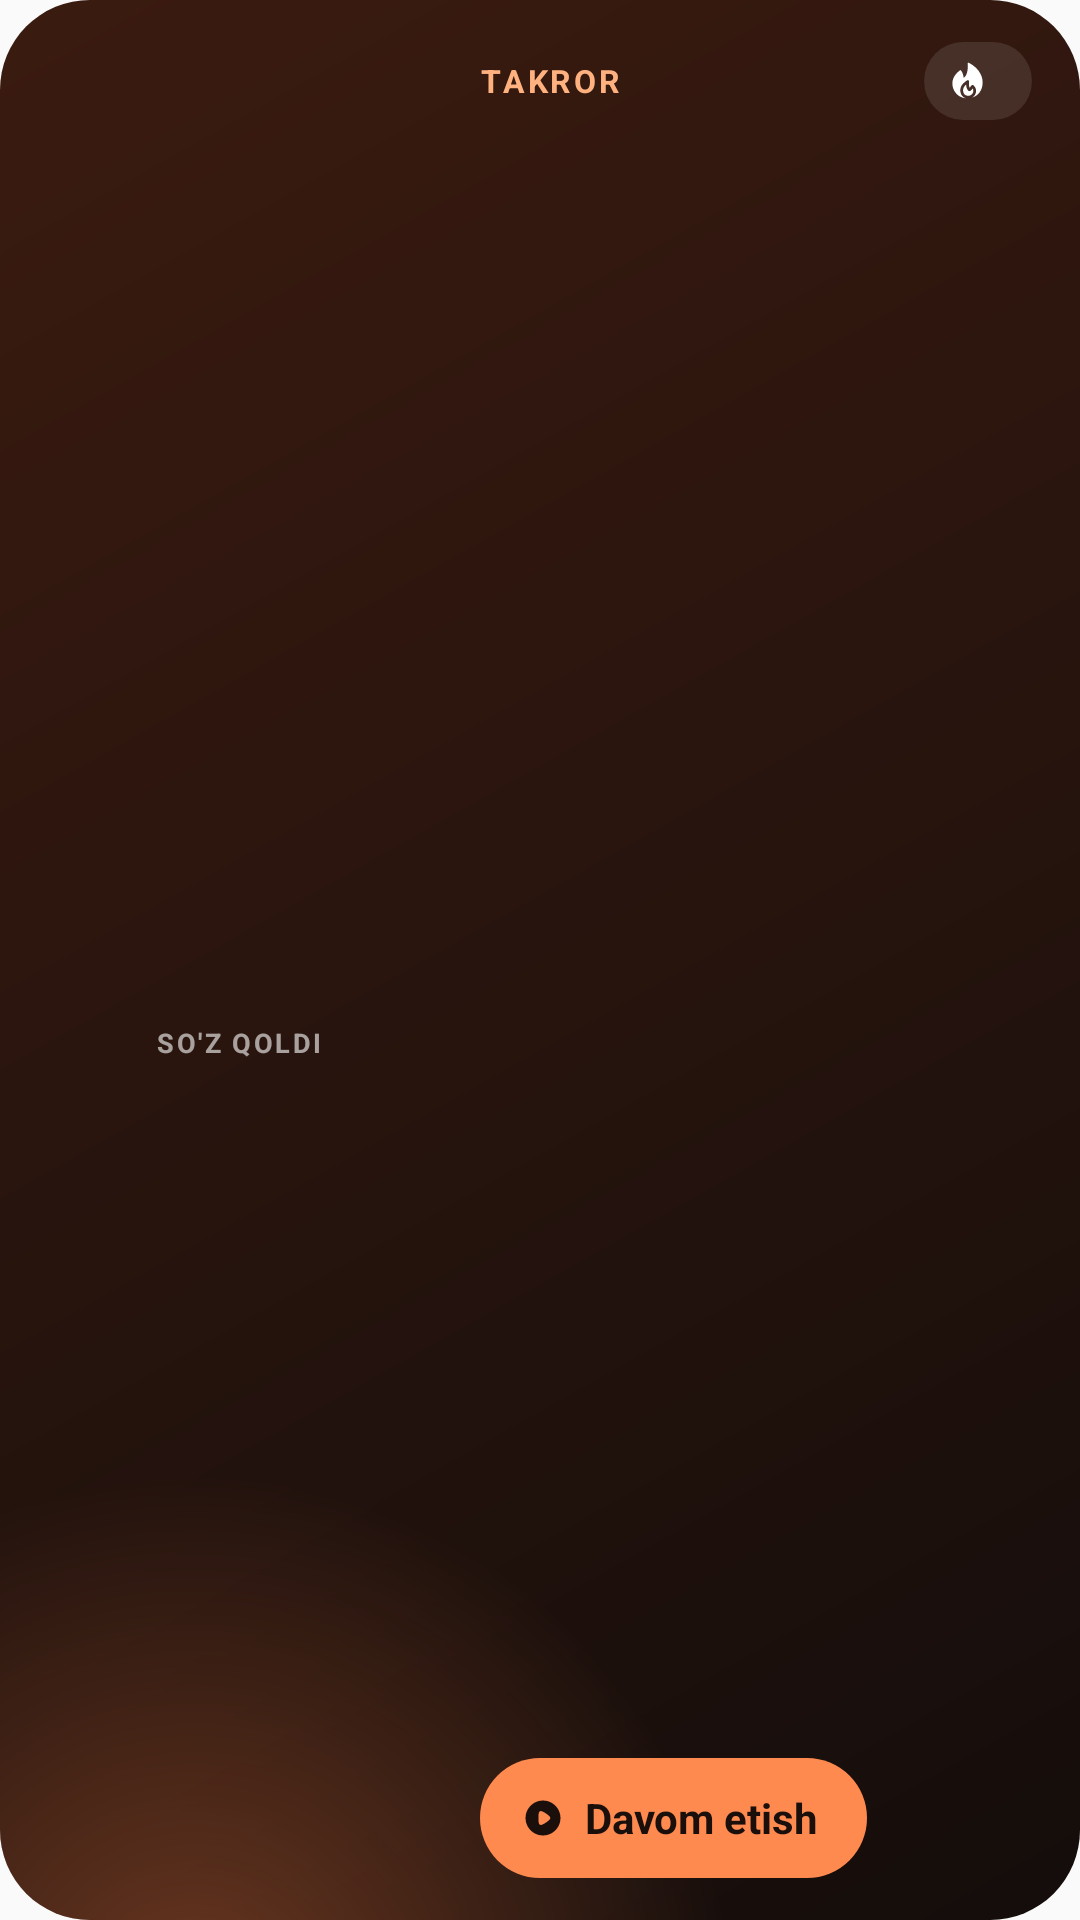

Where to tap for icons on this 1080w x 1920h app screen, as point (x, y):
fire: point (967, 80)
